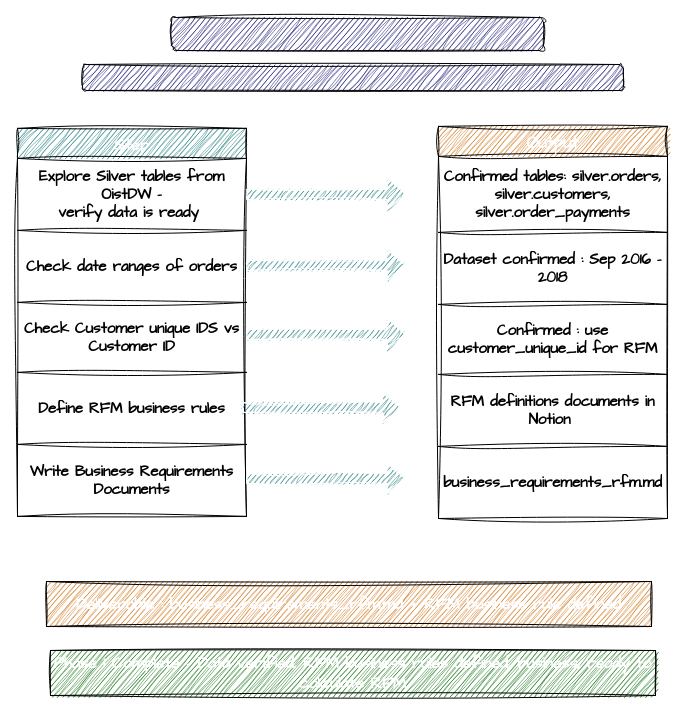
The diagram is 685 pixels wide and 713 high, and some of its shapes have lost their labels. Here are the shapes that lost their labels. From the top down, the centre of each, then its label:
(x=357, y=33): Phase 1 - Data Exploration
(x=353, y=77): Duration 2-3 hours | Tools : SQL Server + Notion
